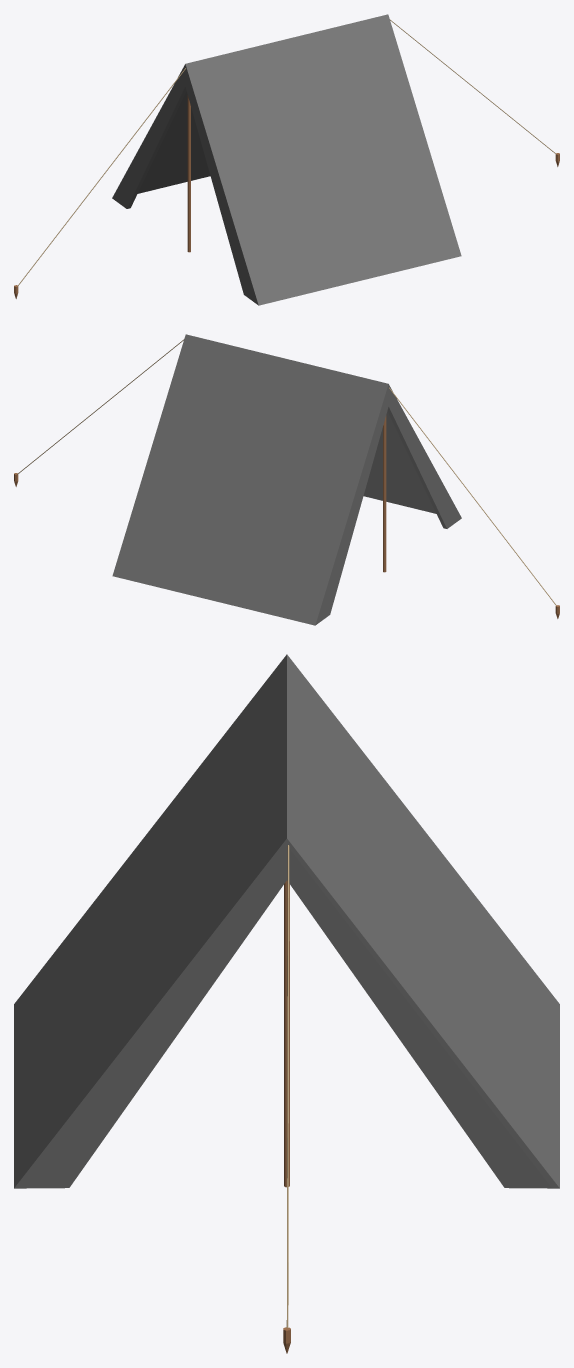
The model's file is Tent.fbx.
The picture shows the model from 3 angles, top to bottom: view 1: azimuth 30°, elevation 25°; view 2: azimuth 150°, elevation 25°; view 3: azimuth 270°, elevation 25°; orthographic projection. The views are drawn at different scales.
Parts seen in each view (by area): view 1: Tent; view 2: Tent; view 3: Tent.
Part boxes in pixels (x1,y1,x2,y2): Tent: [14, 14, 559, 305]; Tent: [14, 334, 559, 625]; Tent: [14, 654, 559, 1353].
Bounding box in the file's own units: 1429 × 486 × 666.
